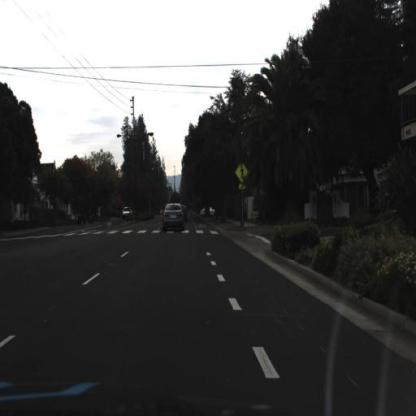car: (158, 195, 188, 243), (121, 205, 136, 225), (199, 202, 215, 218), (182, 201, 191, 227), (181, 204, 189, 232)
